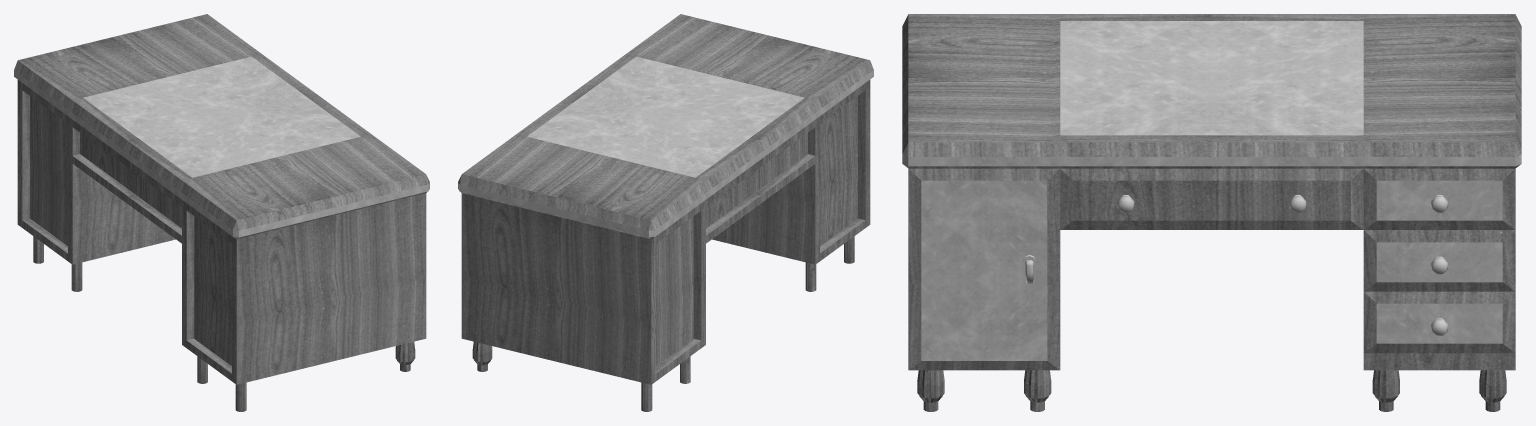
The model's file is Desk.fbx.
3 views of the same model, side by side, from view 1: azimuth 30°, elevation 25°; view 2: azimuth 150°, elevation 25°; view 3: azimuth 270°, elevation 25° (orthographic). The views are drawn at different scales.
Visible parts, largest first — view 1: Desk; view 2: Desk; view 3: Desk.
Part boxes in pixels (x1=…): Desk: x1=14, y1=14, x2=429, y2=411; Desk: x1=458, y1=14, x2=873, y2=411; Desk: x1=902, y1=14, x2=1521, y2=411.
Size of the model in its own units: 1.08 by 1 by 2.04.
